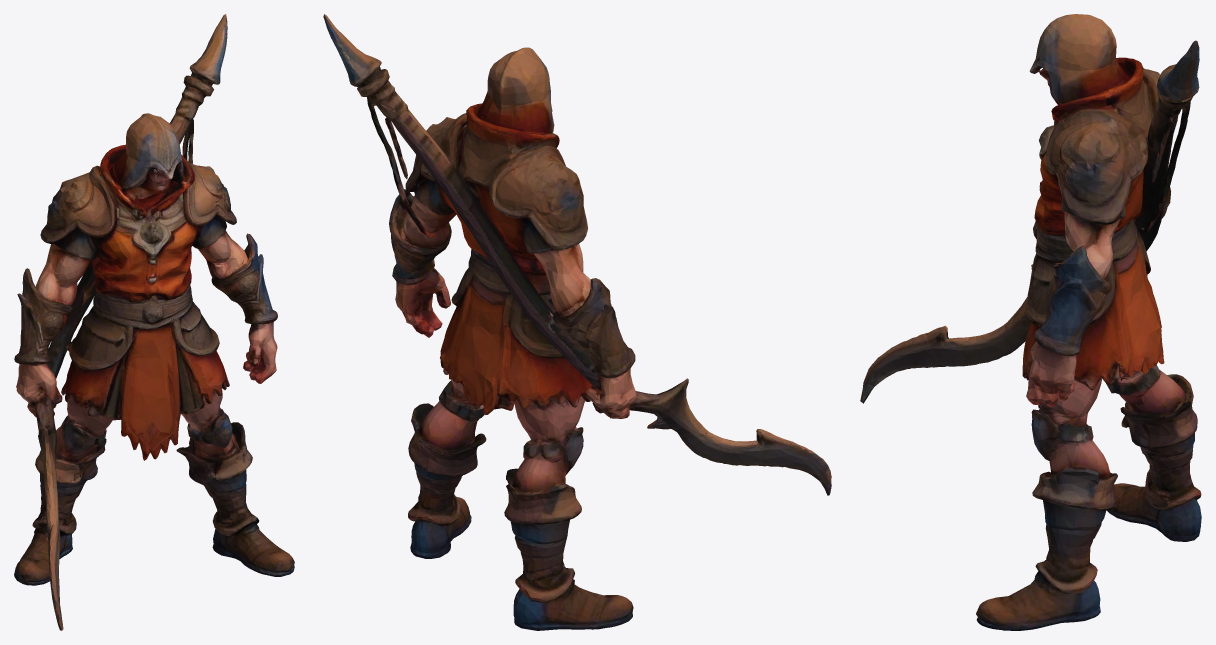
File: warrior.glb
3 views of the same model, side by side, from view 1: azimuth 30°, elevation 25°; view 2: azimuth 150°, elevation 25°; view 3: azimuth 270°, elevation 25° (orthographic). The views are drawn at different scales.
Size of the model in its own units: 1.29 by 1.97 by 1.02.
Materials: 1 (1 with a texture image).
